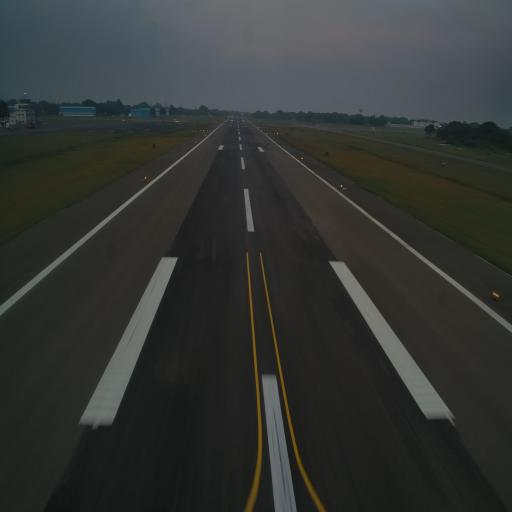off: (178, 150, 182, 156)
on: (491, 282, 502, 302), (340, 182, 344, 190), (143, 175, 147, 180), (301, 157, 304, 160)
